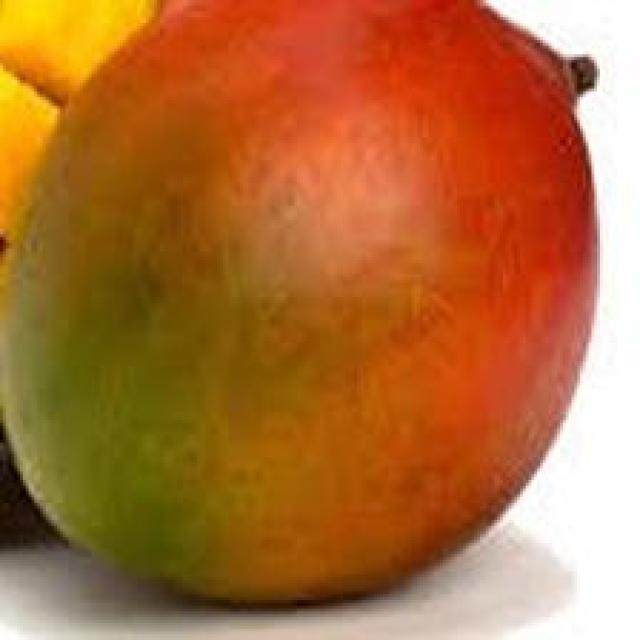Good_Mango: (0, 0, 603, 614)
